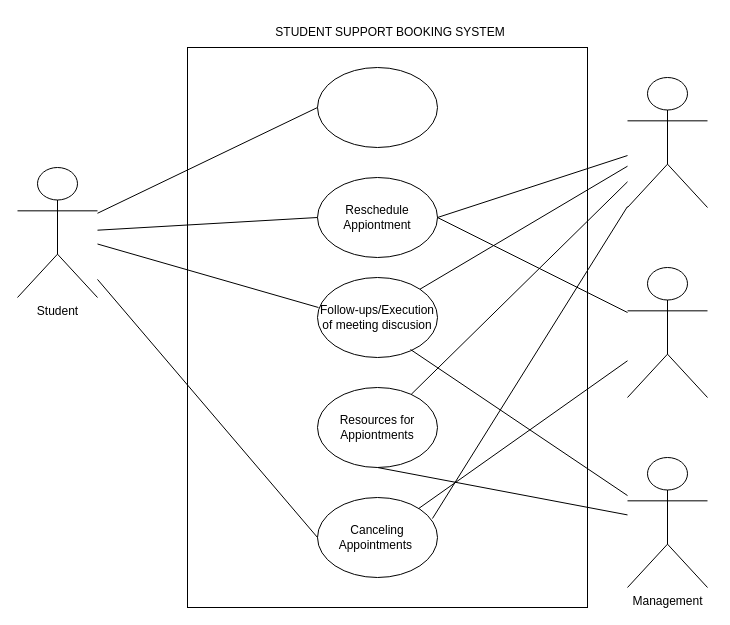
Image size: 730x625. Some labels were removed from this diagram. Here are the shapes that lost their labels. From the top down, the centre of each, then its label:
At pixel 377 107: "Request Appointment".
At pixel 667 142: "Meeting Persons".
At pixel 667 332: "Receptionist".
